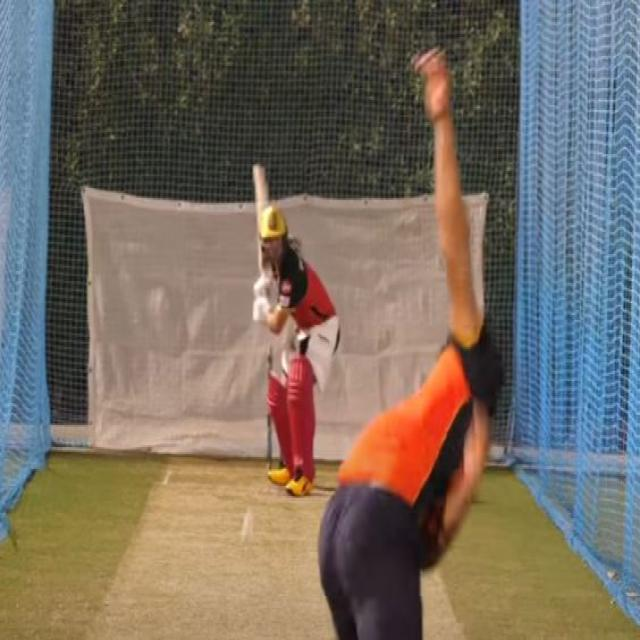ball: (235, 500, 261, 548)
